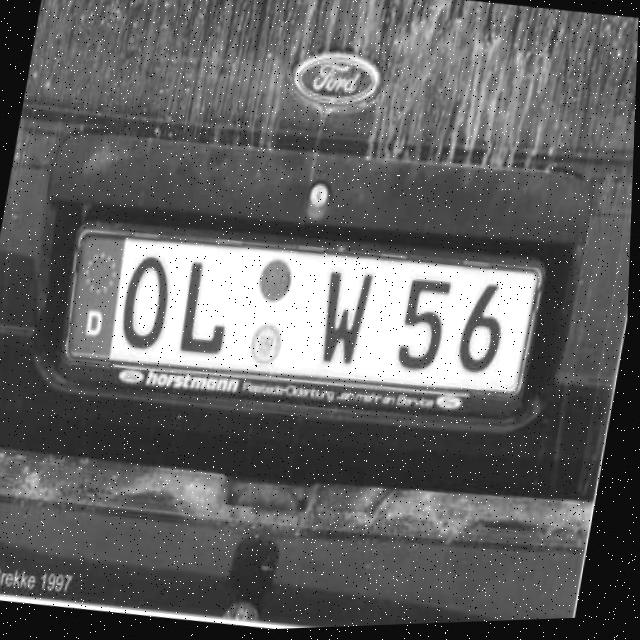license-plates: (66, 233, 541, 396)
